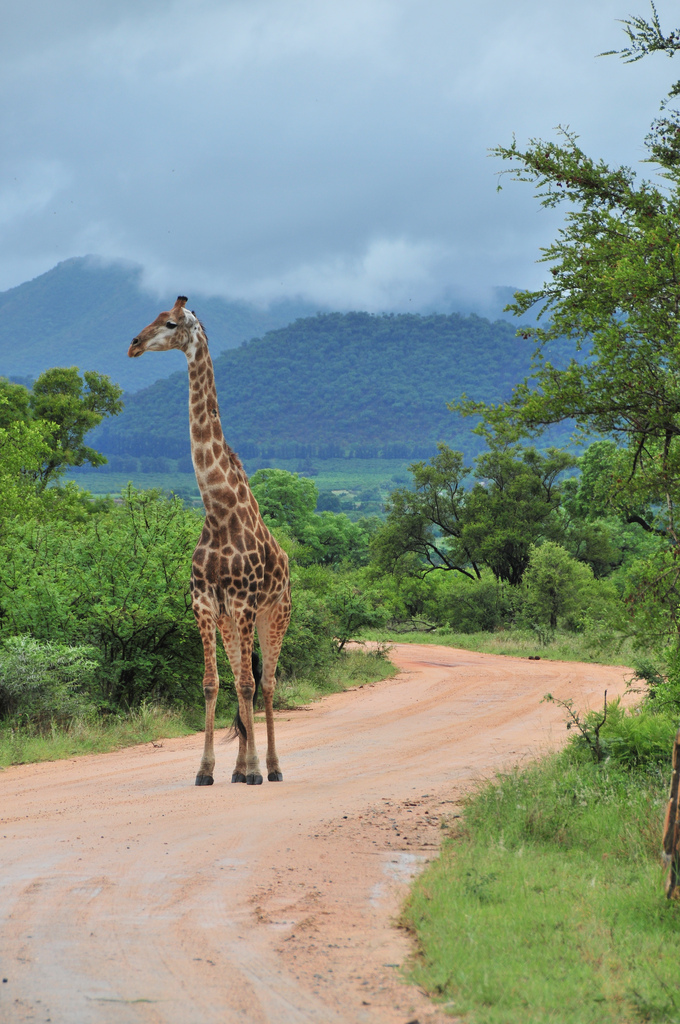giraffe: (122, 273, 314, 806)
